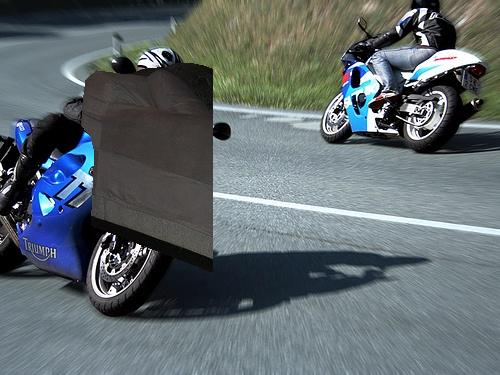tampered: (82, 64, 213, 272)
